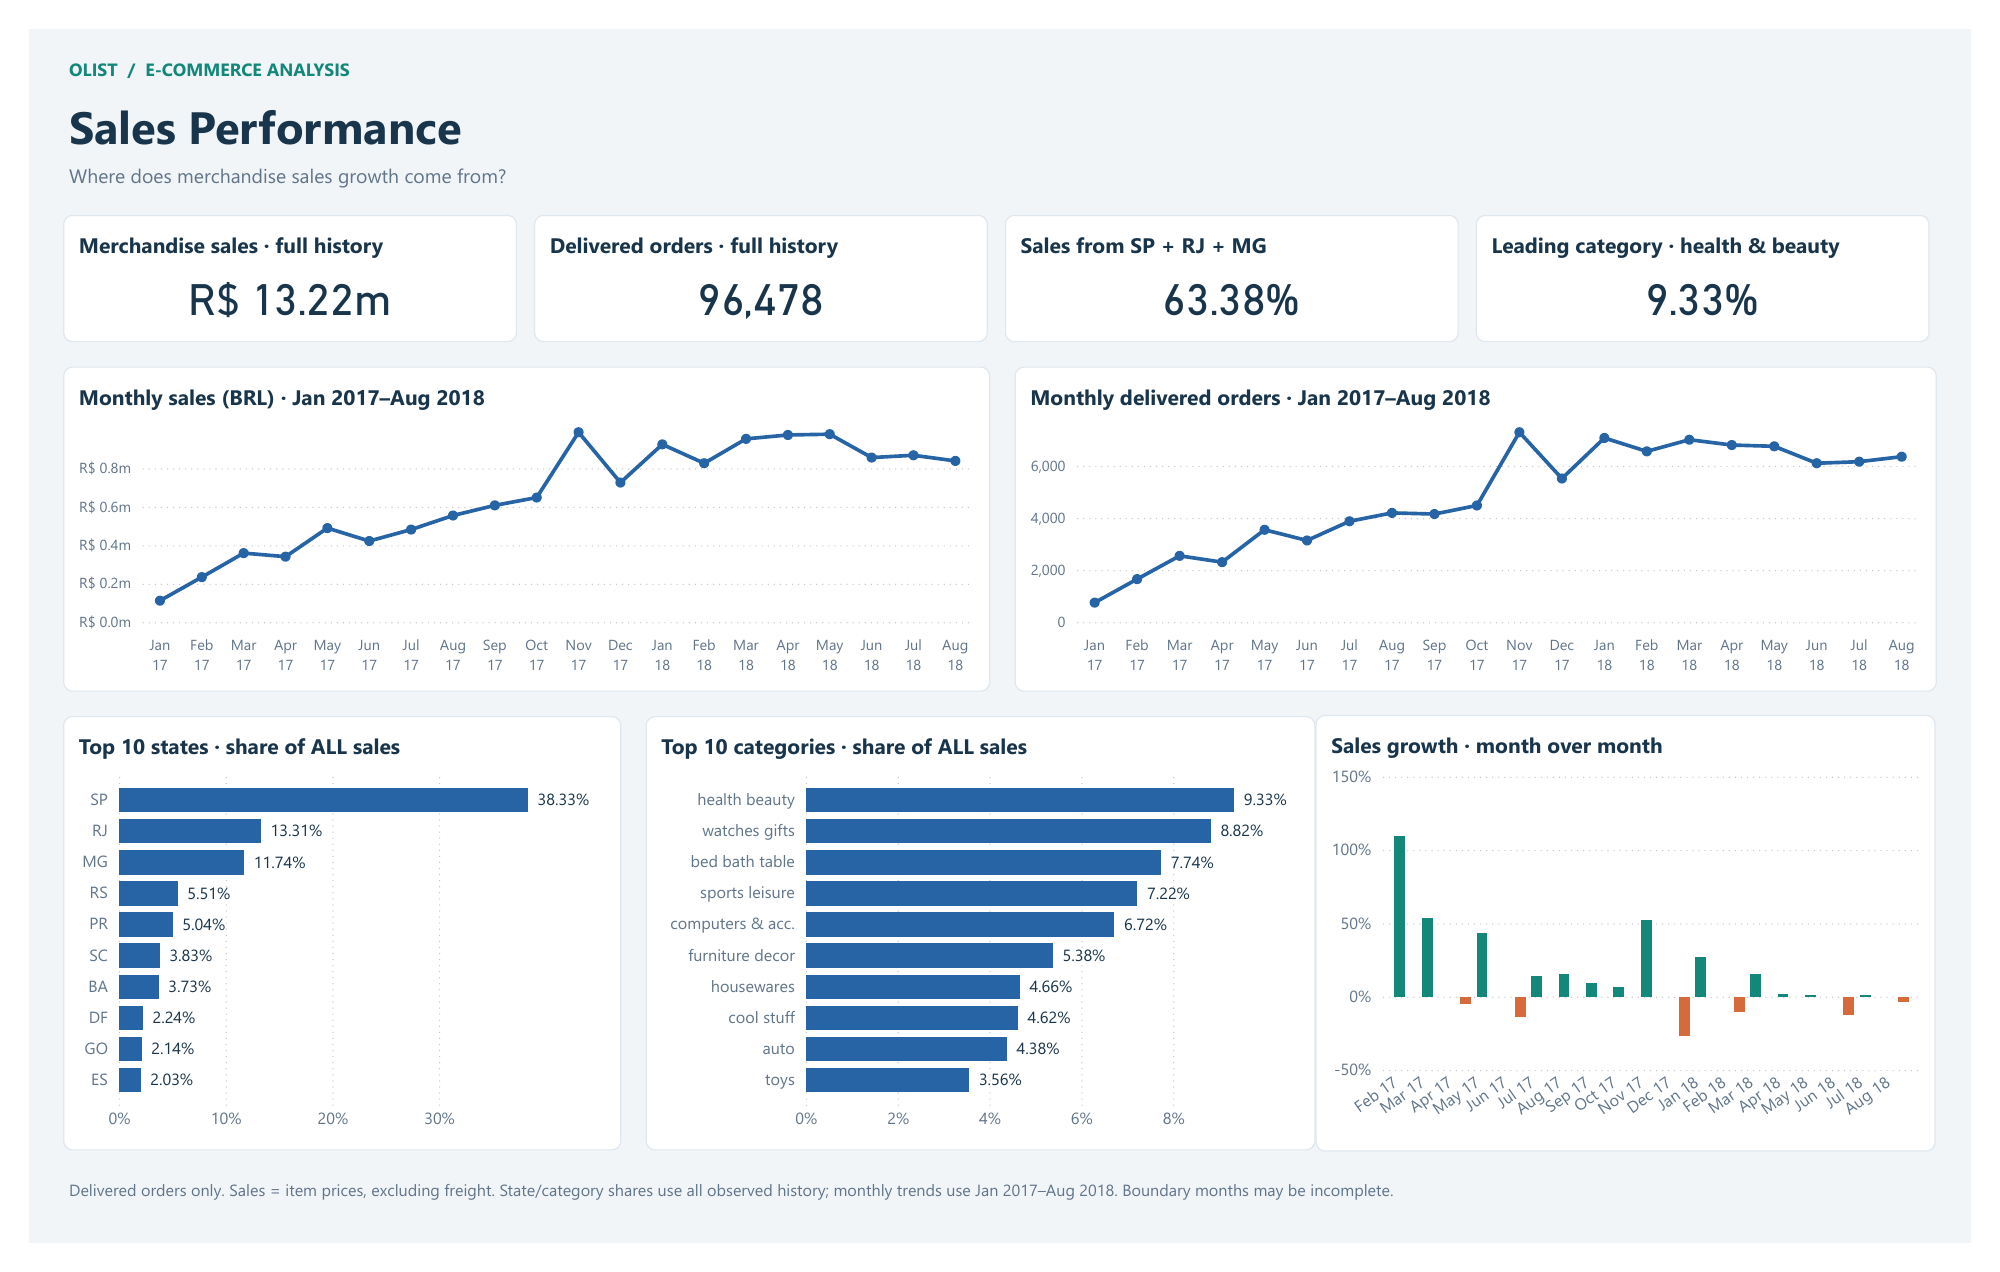

The page's visual inventory and layout, read from the dashboard file:
{"tool":"powerbi","page":{"name":"Sales Performance","canvas":[1600,1000],"ordinal":0},"visuals":[{"type":"textbox","box":[28,18,1300,42],"z":0},{"type":"textbox","box":[28,50,1500,70],"z":1000},{"type":"textbox","box":[28,105,1500,43],"z":2000},{"type":"card","title":"Merchandise sales · full history","fields":{"Values":["q1_states.Total sales"]},"box":[28,153,374,105],"z":3000},{"type":"card","title":"Delivered orders · full history","fields":{"Values":["q1_states.Delivered orders"]},"box":[416,153,374,105],"z":4000},{"type":"card","title":"Sales from SP + RJ + MG","fields":{"Values":["q1_states.Top 3 state share"]},"box":[804,153,374,105],"z":5000},{"type":"card","title":"Leading category · health & beauty","fields":{"Values":["q1_categories.Leading category share"]},"box":[1192,153,374,105],"z":6000},{"type":"lineChart","title":"Monthly sales (BRL) · Jan 2017–Aug 2018","fields":{"Category":["q1_monthly.Month label"],"Y":["q1_monthly.Sales (BRL)"]},"box":[28,278,764,268],"z":7000},{"type":"lineChart","title":"Monthly delivered orders · Jan 2017–Aug 2018","fields":{"Category":["q1_monthly.Month label"],"Y":["q1_monthly.Orders"]},"box":[812,278,760,268],"z":8000},{"type":"clusteredBarChart","title":"Top 10 states · share of ALL sales","fields":{"Category":["StateSalesTop10.customer_state"],"Y":["StateSalesTop10.Share of all sales"]},"box":[28,566,460,358],"z":9000},{"type":"clusteredBarChart","title":"Top 10 categories · share of ALL sales","fields":{"Category":["CategoryTop10.Category label"],"Y":["CategoryTop10.Category share of all sales"]},"box":[508,566,552,358],"z":10000},{"type":"clusteredColumnChart","title":"Sales growth · month over month","fields":{"Category":["q1_monthly.Month label"],"Y":["q1_monthly.Growth","q1_monthly.Decline"]},"box":[1060,564.8,511.4,360.3],"z":11000},{"type":"textbox","box":[28,943,1544,40],"z":12000}]}

Visuals, with their boxes in screenshot pixels (x1, y1, x2, y2), scaled from the page's 1600x1000 canvas onto the 2000x1272 screenshot:
textbox: select_region(35, 23, 1660, 76)
textbox: select_region(35, 64, 1910, 153)
textbox: select_region(35, 134, 1910, 188)
"Merchandise sales · full history" card: select_region(35, 195, 502, 328)
"Delivered orders · full history" card: select_region(520, 195, 988, 328)
"Sales from SP + RJ + MG" card: select_region(1005, 195, 1472, 328)
"Leading category · health & beauty" card: select_region(1490, 195, 1958, 328)
"Monthly sales (BRL) · Jan 2017–Aug 2018" lineChart: select_region(35, 354, 990, 695)
"Monthly delivered orders · Jan 2017–Aug 2018" lineChart: select_region(1015, 354, 1965, 695)
"Top 10 states · share of ALL sales" clusteredBarChart: select_region(35, 720, 610, 1175)
"Top 10 categories · share of ALL sales" clusteredBarChart: select_region(635, 720, 1325, 1175)
"Sales growth · month over month" clusteredColumnChart: select_region(1325, 718, 1964, 1177)
textbox: select_region(35, 1199, 1965, 1250)
